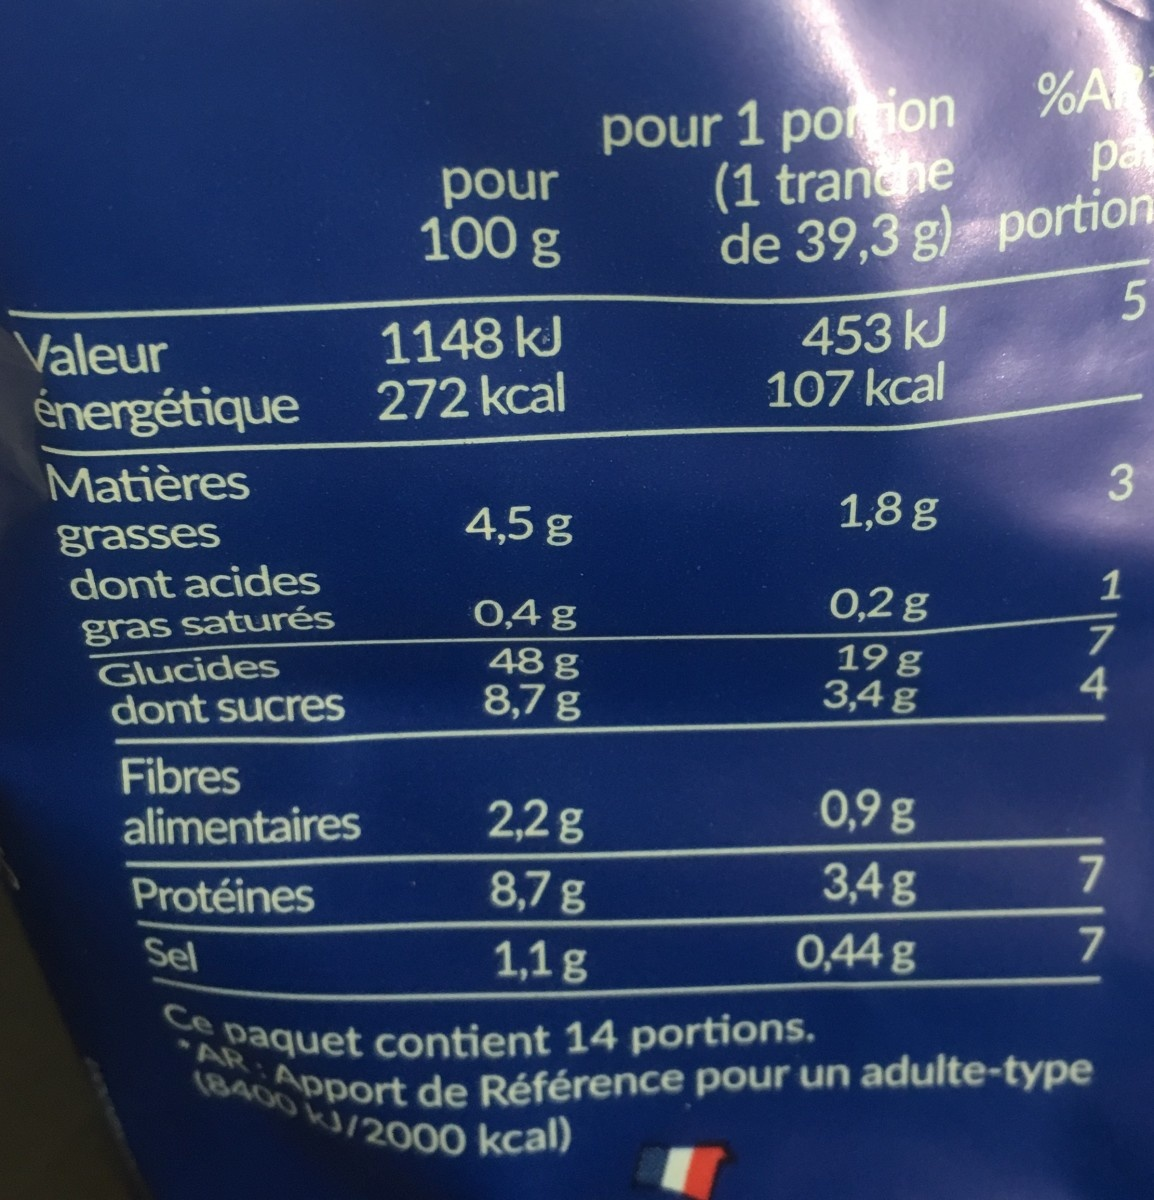column: (603, 77, 956, 986), (19, 307, 363, 988), (379, 163, 585, 986), (992, 67, 1150, 982)
table: (12, 61, 1149, 1006)
